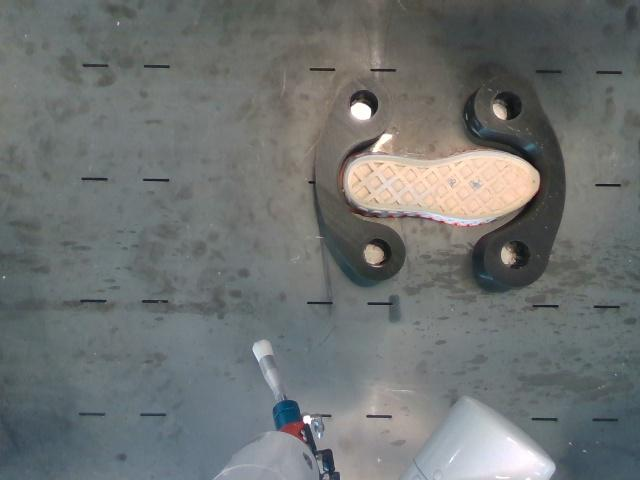shoes: (348, 152, 540, 220)
